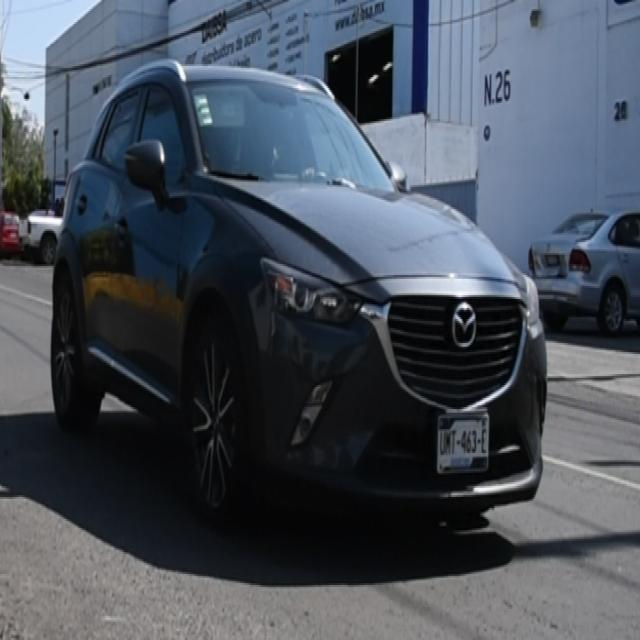placa: (437, 424, 488, 458)
